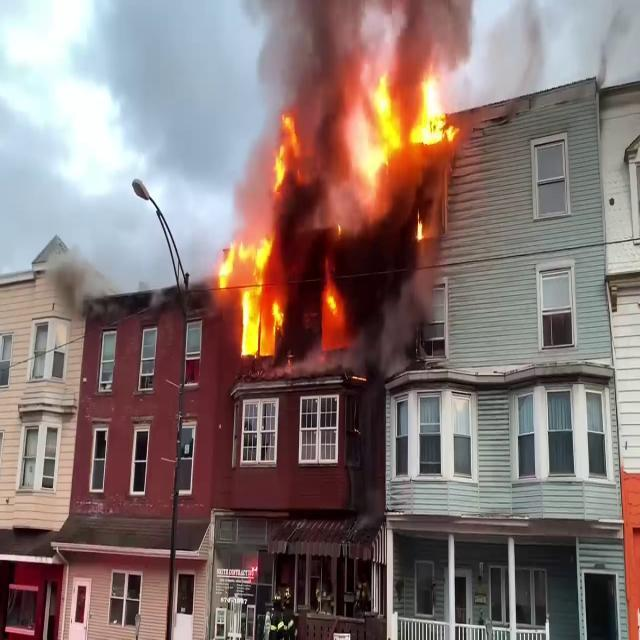Fire: (355, 59, 457, 170), (218, 228, 288, 362)
Smoke: (236, 0, 377, 244)
